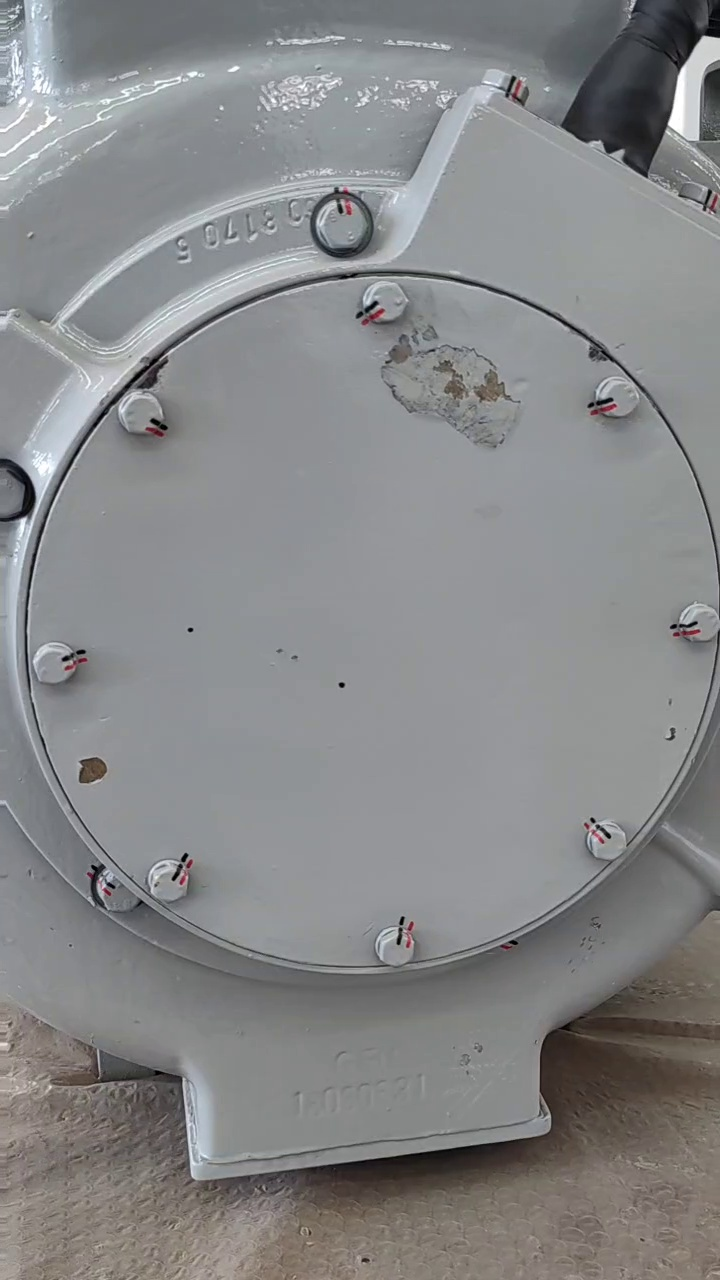shed: (378, 326, 520, 447)
y1: (588, 377, 640, 418)
